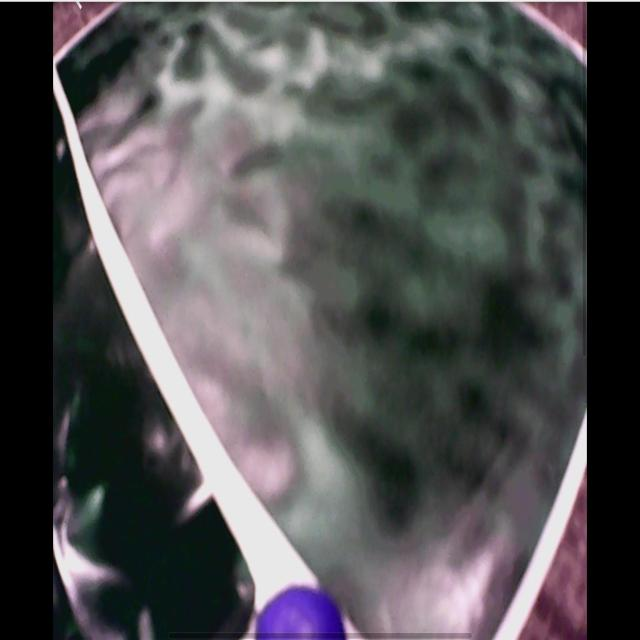ball: (256, 585, 347, 640)
